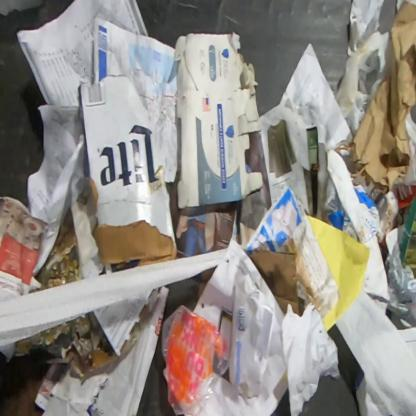cardboard: (79, 74, 179, 270), (172, 31, 264, 209), (248, 237, 302, 317)
rigid_plastic: (160, 303, 232, 416)
